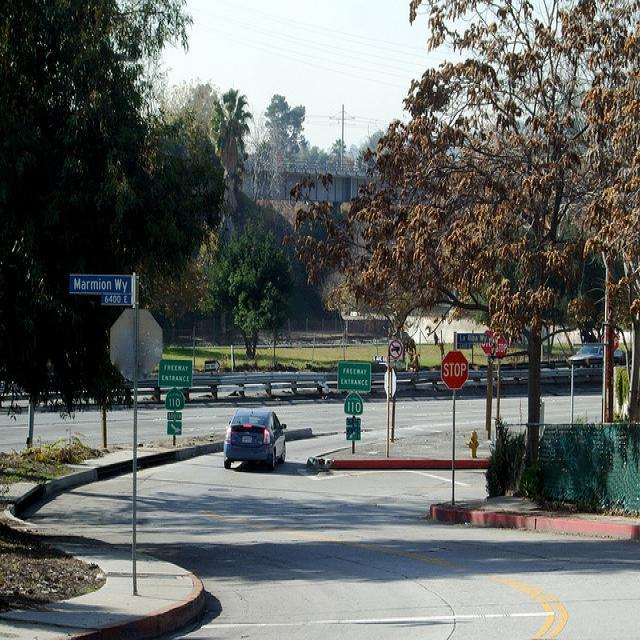fire_hydrant: (465, 428, 479, 458)
